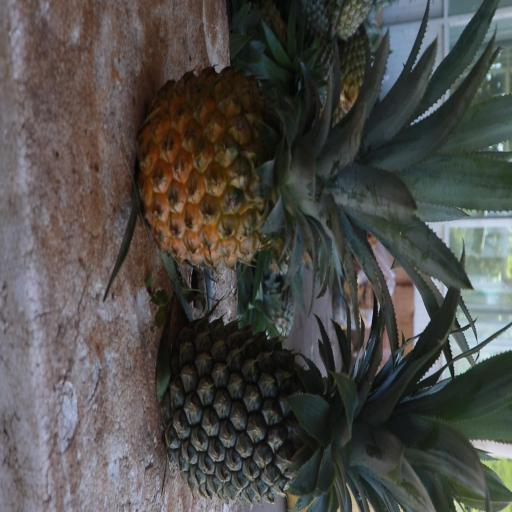Pineapple - v8 v1: (134, 70, 431, 257)
